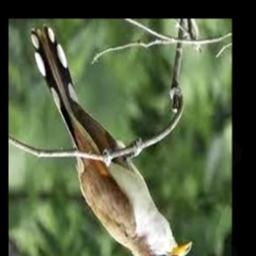Cuckoo: (30, 23, 190, 256)
